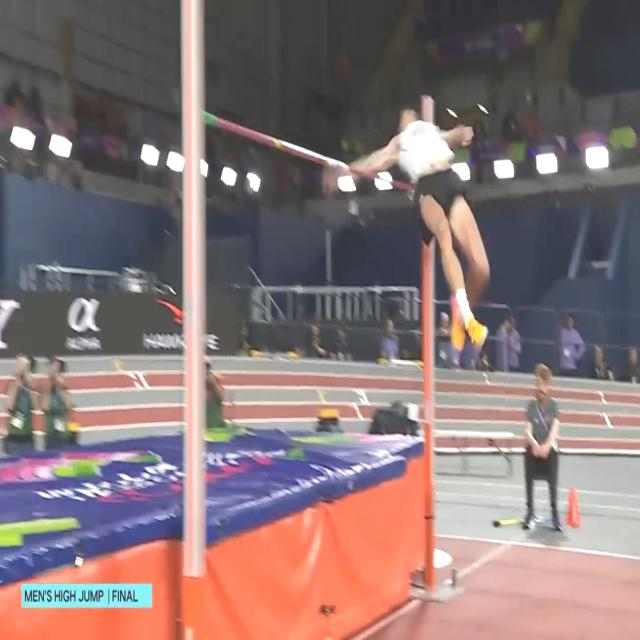jump: (324, 106, 490, 351)
